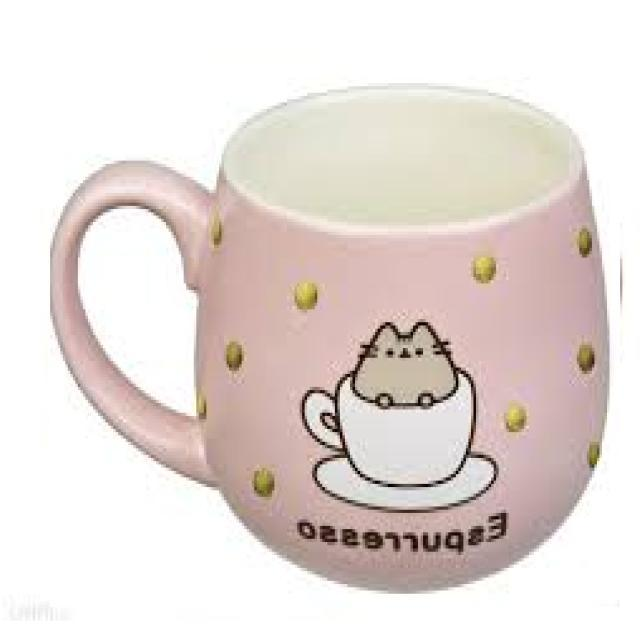Coffee Mug: (52, 85, 611, 595)
